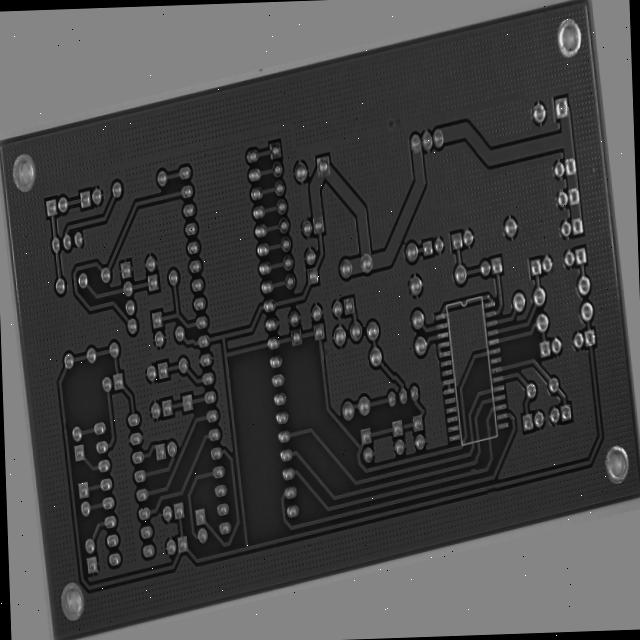spur: (475, 460, 485, 479), (465, 534, 476, 550), (486, 487, 495, 502)
